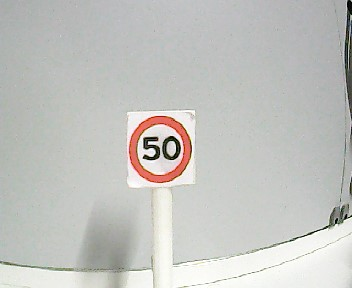50-bord: (128, 115, 193, 185)
